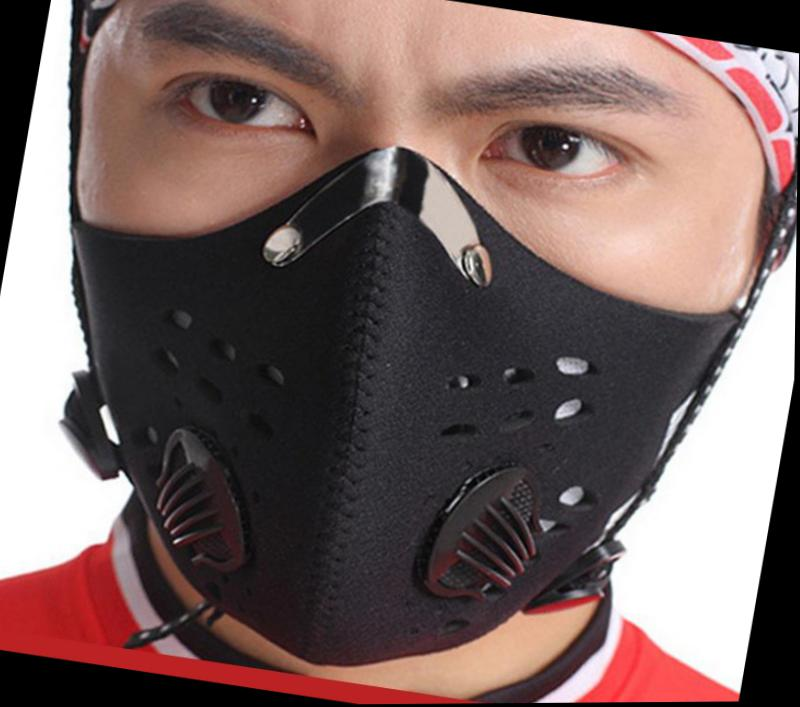OK: (1, 1, 800, 707)
